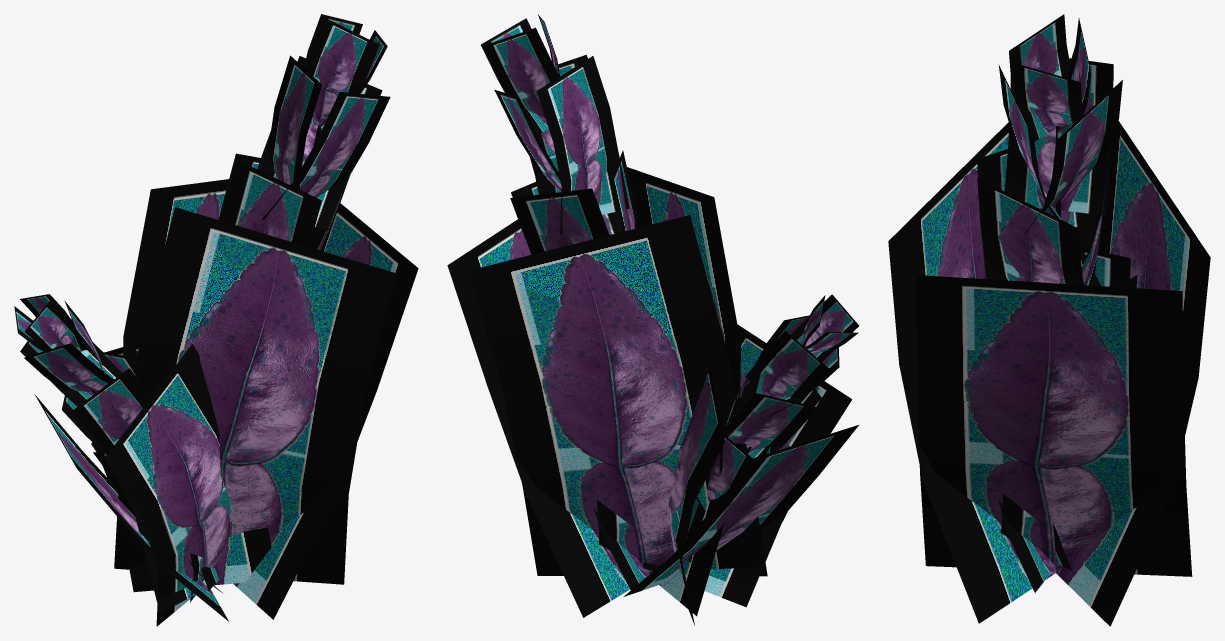
Rendered from plante_2_2.FBX.
3 views of the same model, side by side, from view 1: azimuth 30°, elevation 25°; view 2: azimuth 150°, elevation 25°; view 3: azimuth 270°, elevation 25° (orthographic). The views are drawn at different scales.
Parts seen in each view (by area): view 1: Plane108; view 2: Plane108; view 3: Plane108.
Boxes of the visible parts, x1,y1,x2,y2 form: Plane108: [14, 14, 418, 626]; Plane108: [447, 14, 858, 625]; Plane108: [888, 14, 1210, 626].
Bounding box in the file's own units: 206 × 295 × 135.
1 material, 1 textured.
